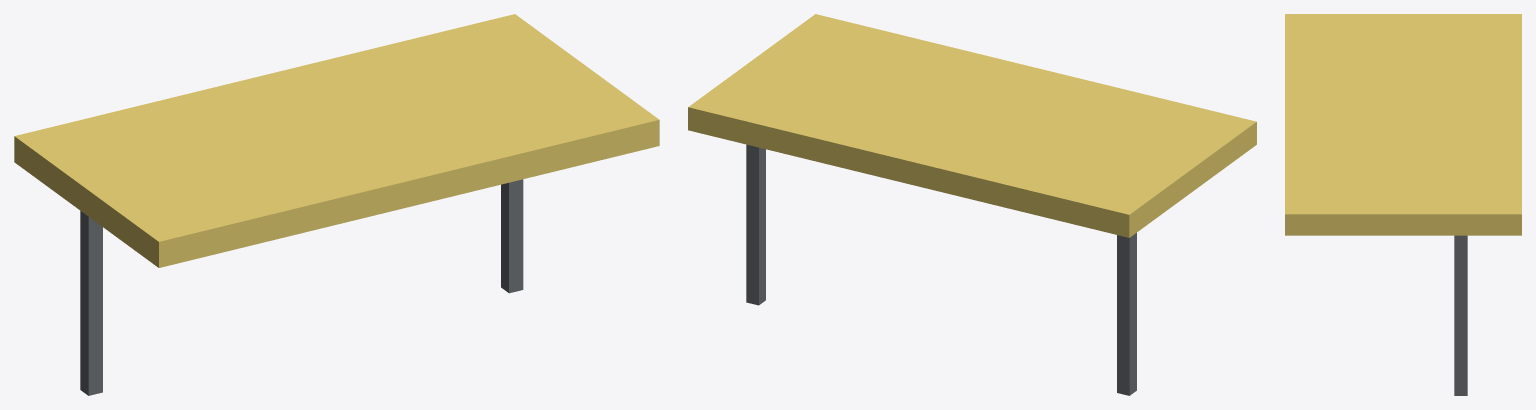
Rendered from awning_03.glb.
The picture shows the model from 3 angles, left to right: view 1: azimuth 30°, elevation 25°; view 2: azimuth 150°, elevation 25°; view 3: azimuth 270°, elevation 25°; orthographic projection. The views are drawn at different scales.
Parts seen in each view (by area): view 1: canopy, brace-0.588, brace0.588; view 2: canopy, brace-0.588, brace0.588; view 3: canopy, brace0.588.
Boxes of the visible parts, left/top/right/bottom form: canopy: left=14, top=14, right=659, bottom=267; brace-0.588: left=80, top=211, right=102, bottom=395; brace0.588: left=501, top=179, right=523, bottom=293; canopy: left=688, top=14, right=1256, bottom=237; brace-0.588: left=1117, top=233, right=1136, bottom=395; brace0.588: left=746, top=144, right=765, bottom=305; canopy: left=1285, top=14, right=1521, bottom=235; brace0.588: left=1454, top=235, right=1467, bottom=395.
Size of the model in its own units: 1.4 by 0.635 by 0.7.
